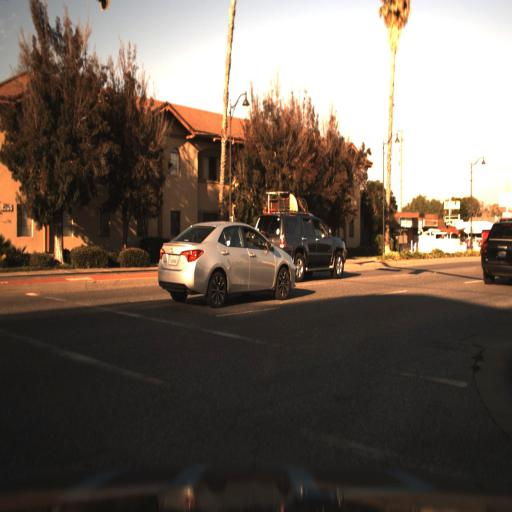car: (156, 222, 294, 307), (253, 208, 349, 281), (480, 219, 512, 293)
